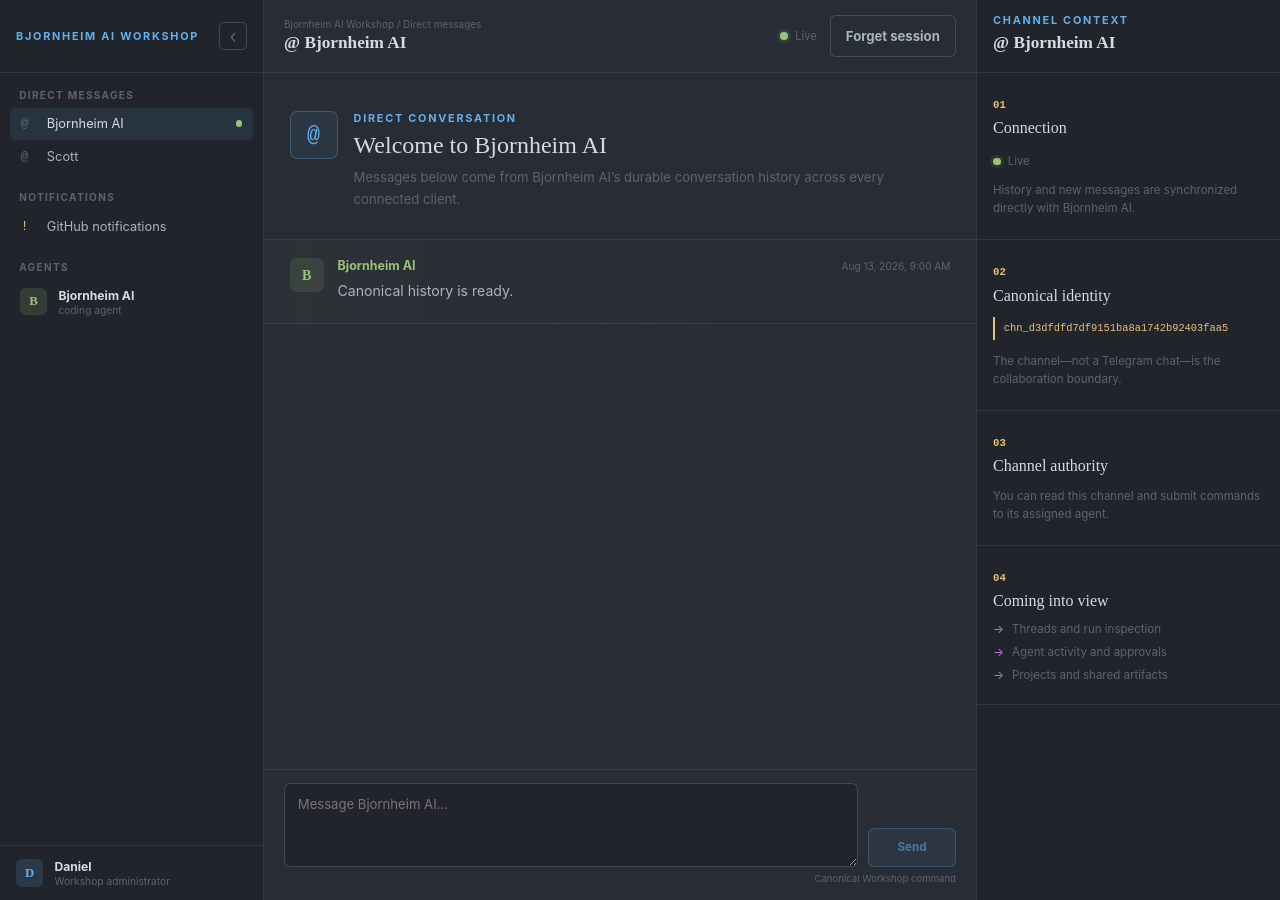
Test: Workshop React client › groups direct messages and names agent and human conversations by participant
Expected: the text "Canonical history is ready." is shown, [338,282,513,299]
Expected: the text "Direct messages" is shown, [19,89,134,101]
Click the button "@ Scott": (132, 156) [10,140,253,173]
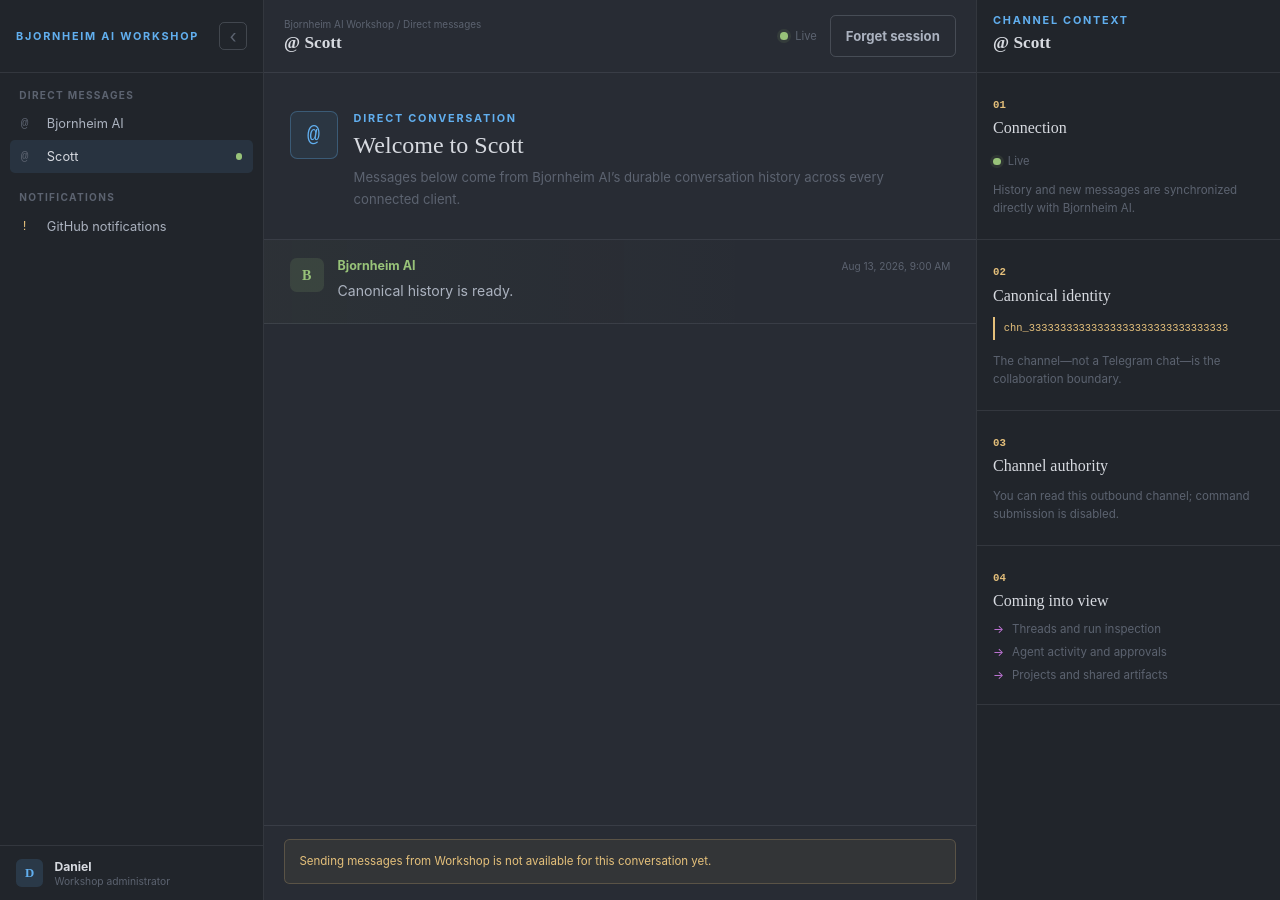
Now the 1st heading "@ Scott" is shown, box [284,34,342,52]
Now the text "Sending messages from Workshop is not available for this conversation yet." is shown, box [284,839,956,884]
Now the text "Agents" is gone
